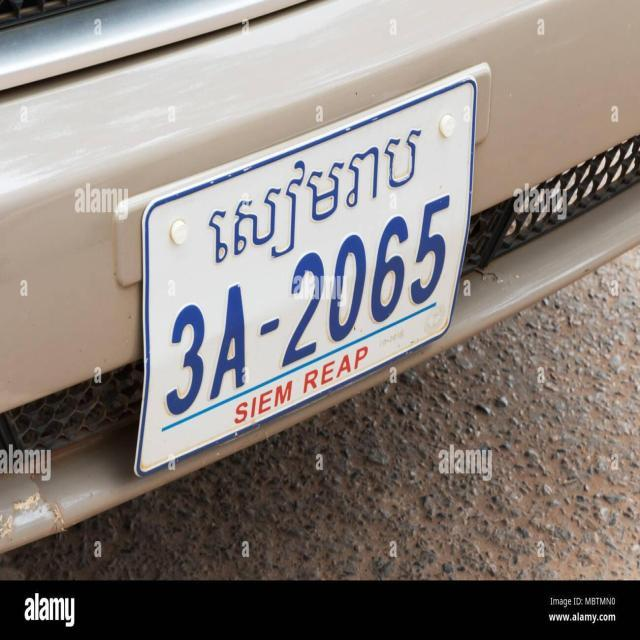Siem_Reap: (207, 124, 423, 264)
